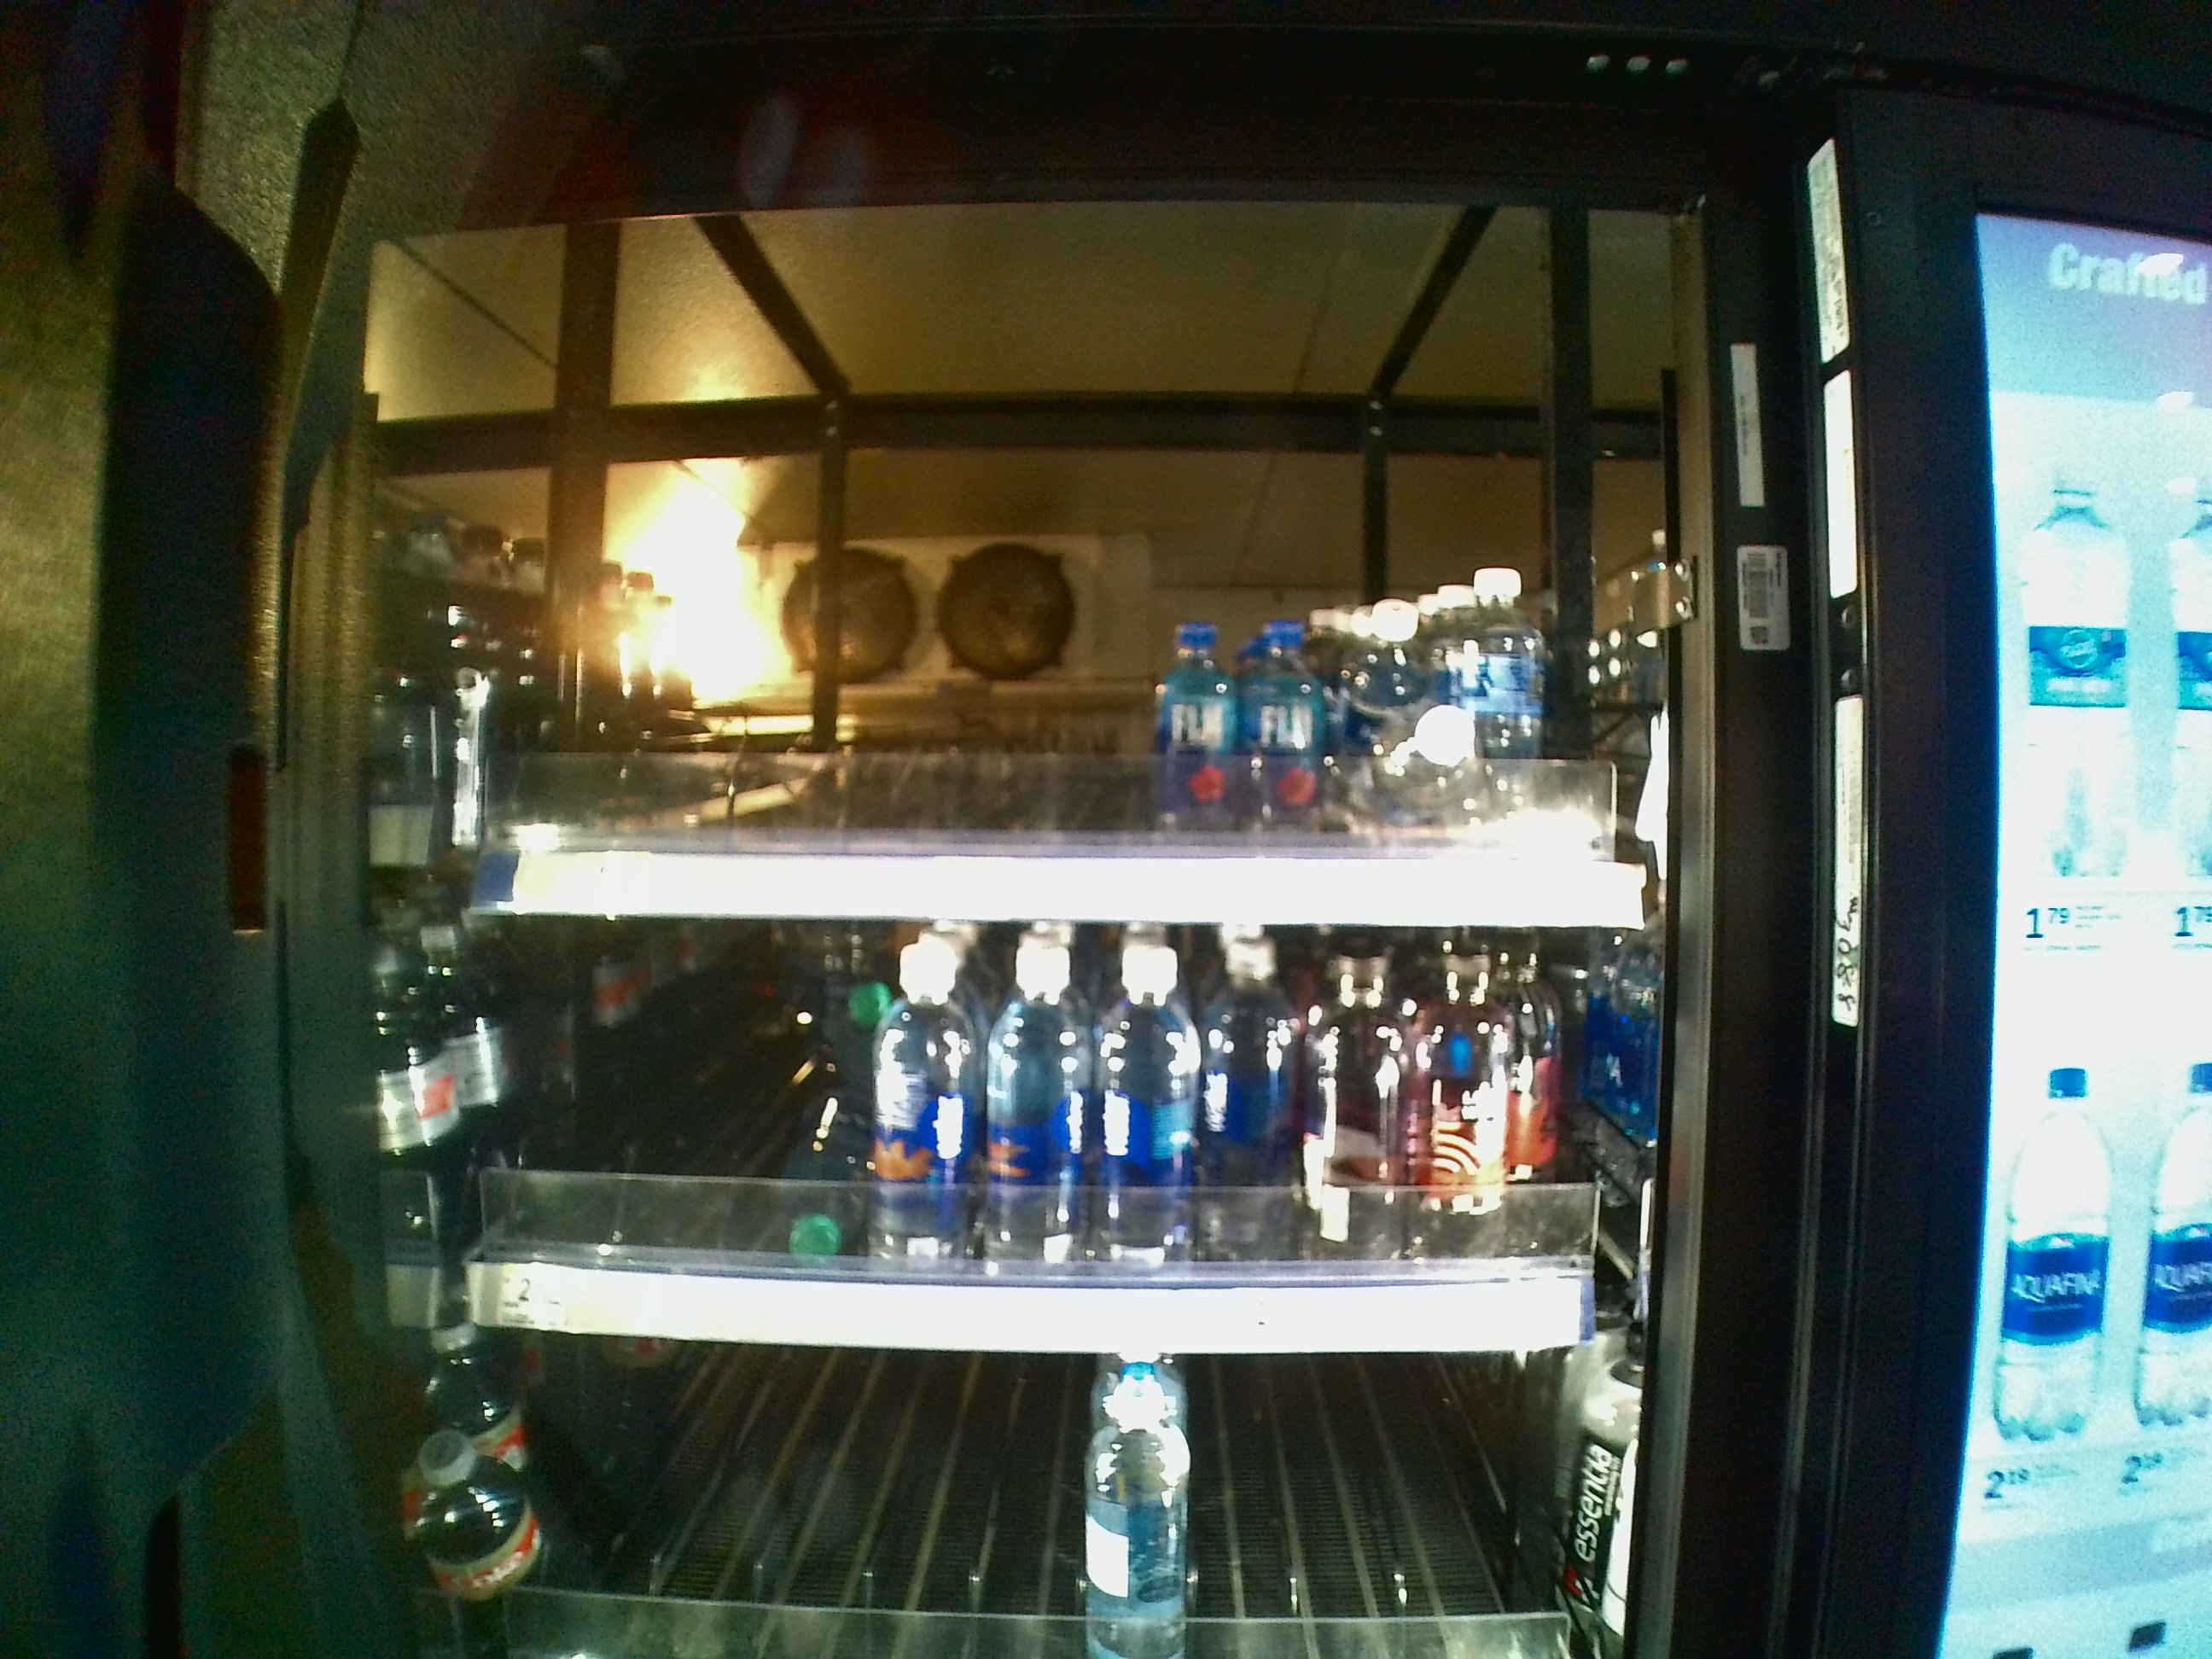shelf: (446, 221, 1672, 927), (444, 927, 1679, 1361)
